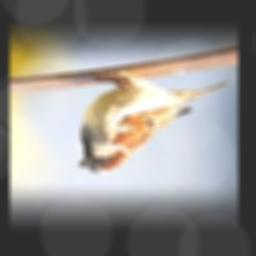Sparrow: (78, 71, 229, 173)
